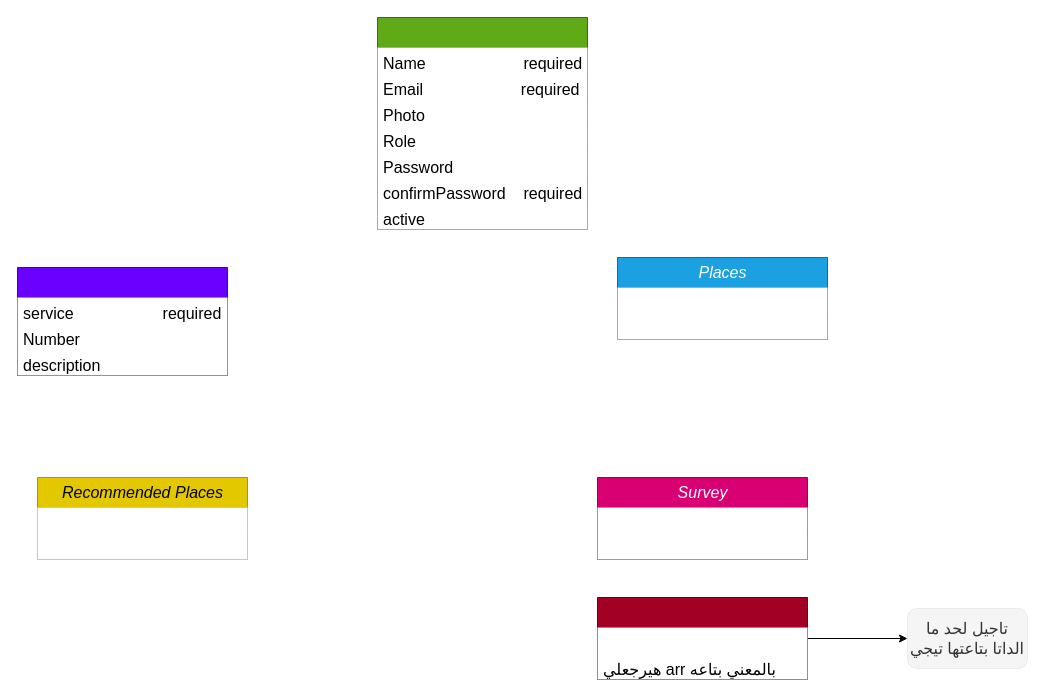
This 1045x700 diagram has some shape labels left out. The box of each missing label's shape, as (x1, y1, x2, y2) in pixels:
ClassModel: (596, 596, 808, 680)
Emergency: (16, 266, 228, 376)
User: (376, 16, 588, 230)
